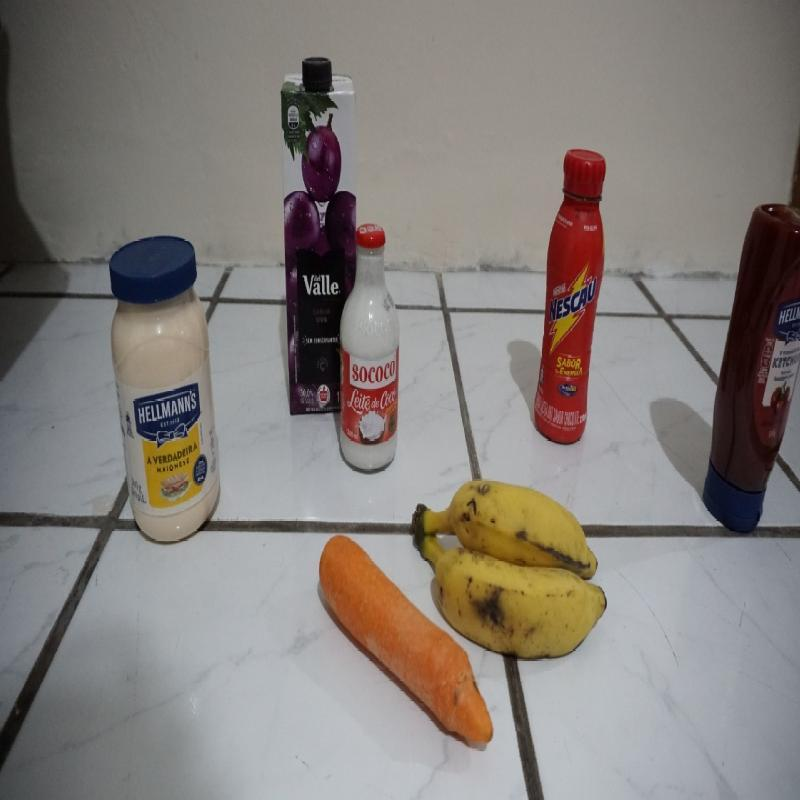Banana: (422, 453, 611, 650)
Carrot: (316, 533, 422, 706)
Chocolate Milk: (534, 138, 604, 446)
Coconut Milk: (338, 221, 401, 472)
Ketchup: (706, 195, 797, 533)
Mayonnaise: (106, 239, 225, 544)
